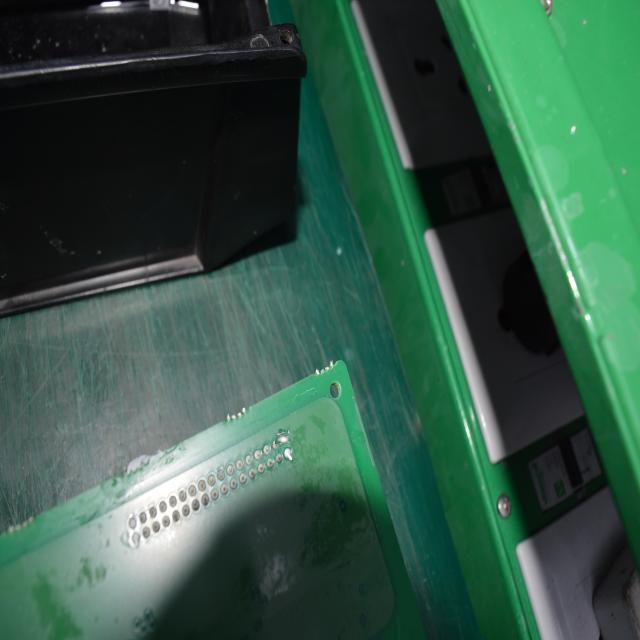slug: (277, 430, 291, 446)
